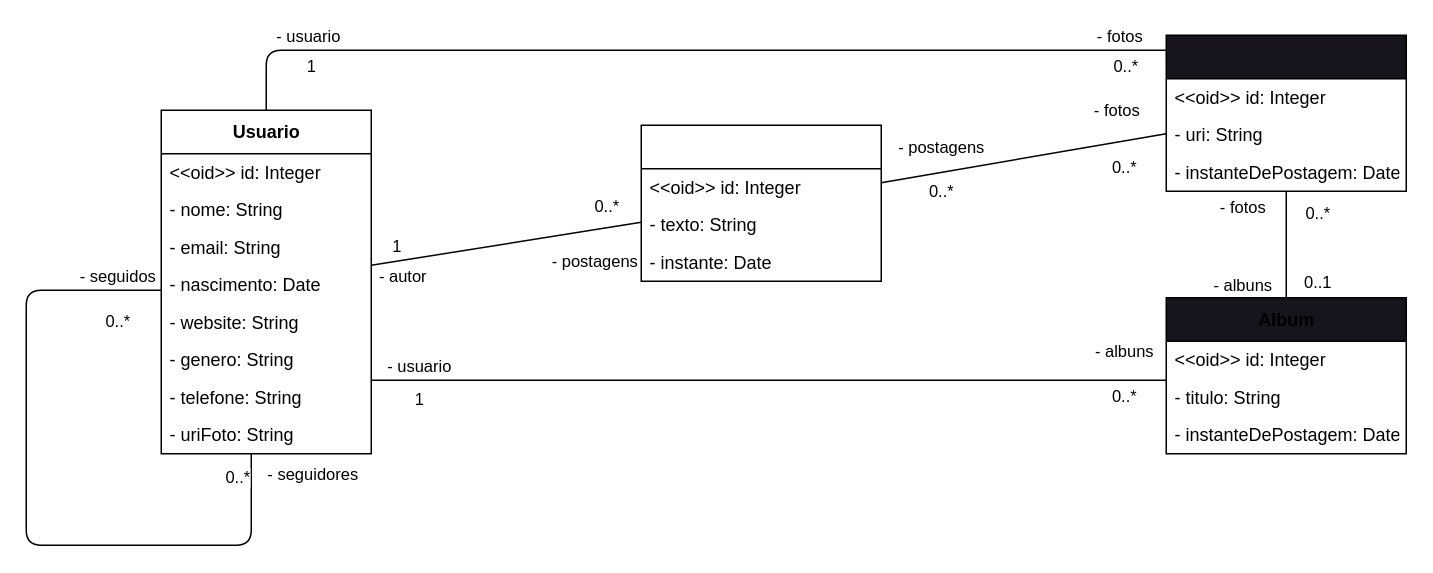
This 1433x573 diagram has some shape labels left out. The box of each missing label's shape, as (x1, y1, x2, y2) in pixels:
Foto: (1165, 34, 1406, 191)
Postagem: (640, 124, 881, 281)
